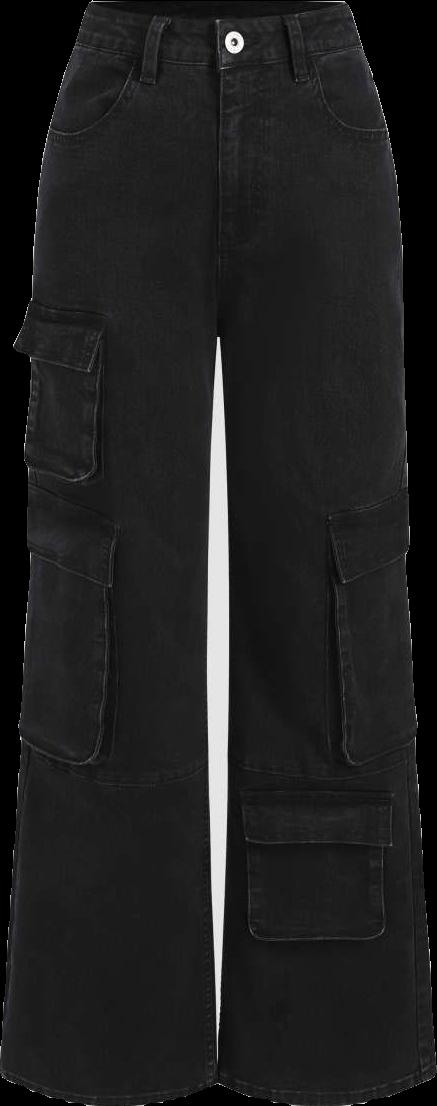Hemline: (0, 1065, 220, 1104), (214, 1067, 436, 1105)
Pantleg: (207, 0, 436, 1105), (0, 0, 220, 1100)
Waistline: (72, 35, 360, 69), (81, 0, 347, 27)
